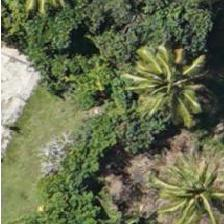coconut_tree: (126, 40, 216, 130), (149, 140, 223, 223)
